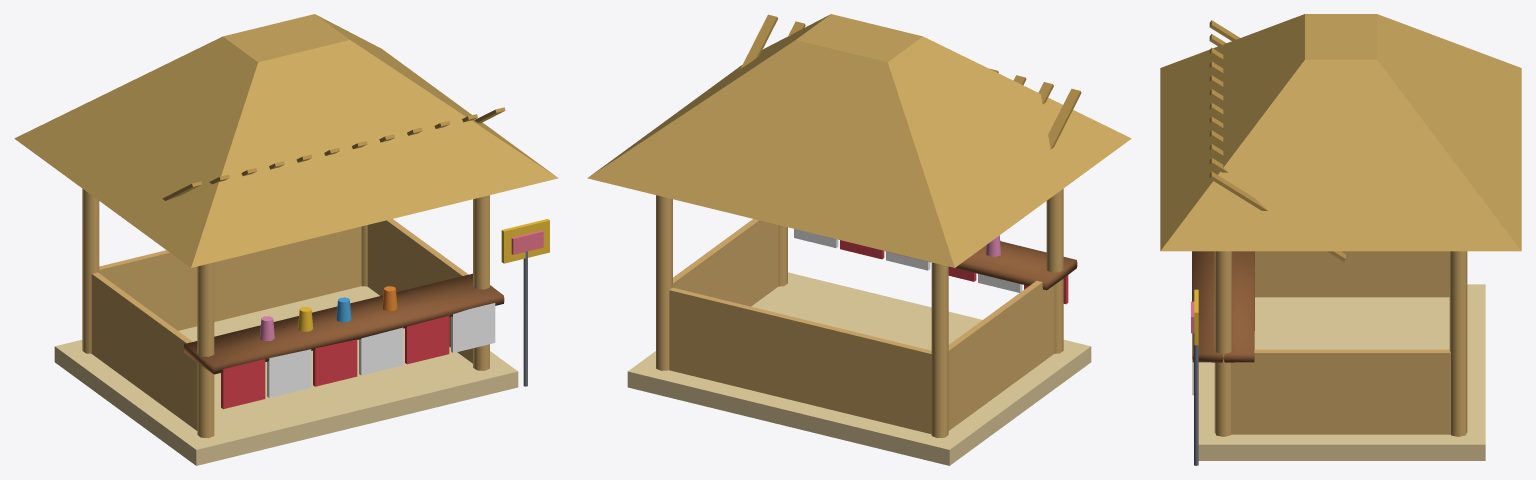
The model's file is beach_shack.glb.
The picture shows the model from 3 angles, left to right: view 1: azimuth 30°, elevation 25°; view 2: azimuth 150°, elevation 25°; view 3: azimuth 270°, elevation 25°; orthographic projection. The views are drawn at different scales.
Visible parts, largest first — view 1: root; view 2: root; view 3: root.
Part boxes in pixels (x1,y1,x2,y2): root: (14,14,558,465); root: (587,14,1131,465); root: (1160,14,1521,465).
Bounding box in the file's own units: 4.9 × 4.2 × 4.
